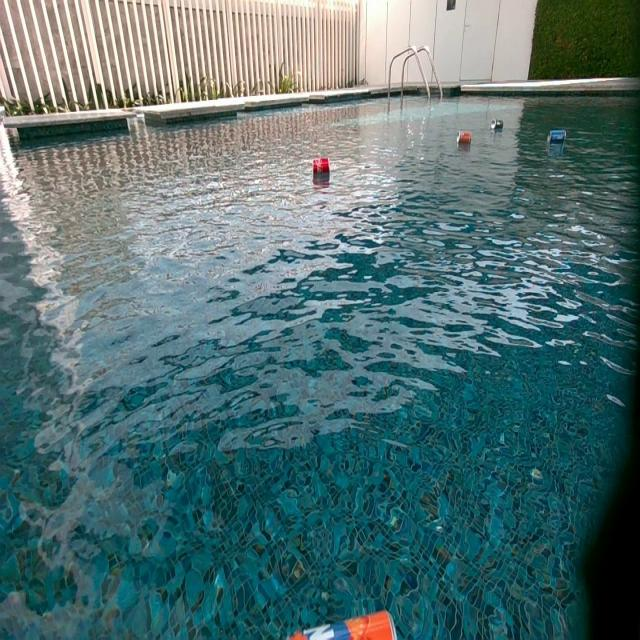Cans: (312, 159, 330, 176), (548, 130, 566, 146), (457, 132, 472, 146), (491, 118, 504, 130)
